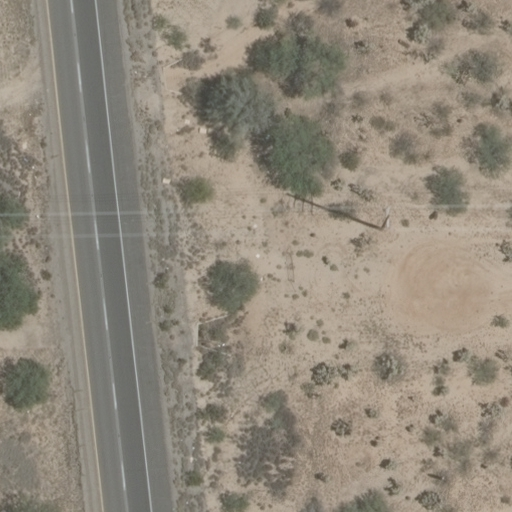DT: (379, 207, 395, 229)
